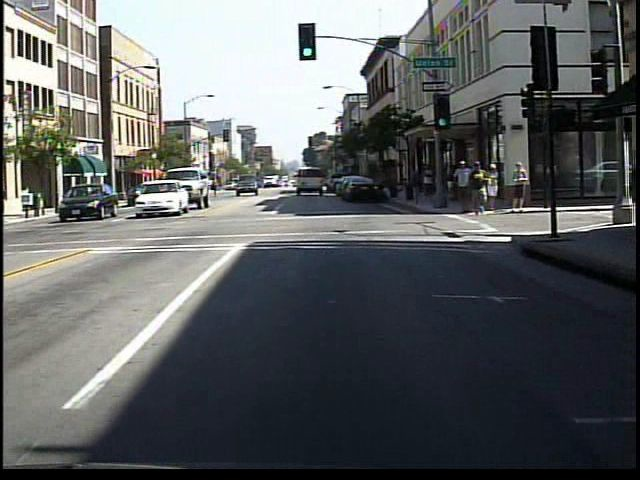person: (508, 157, 533, 219), (468, 160, 491, 219), (450, 159, 473, 215), (486, 162, 503, 212), (420, 161, 439, 205), (208, 174, 225, 202)
